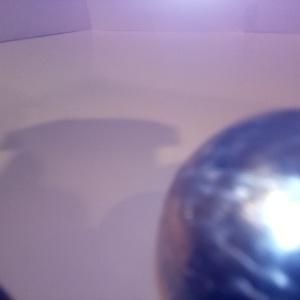alive_ball: (156, 108, 300, 300)
